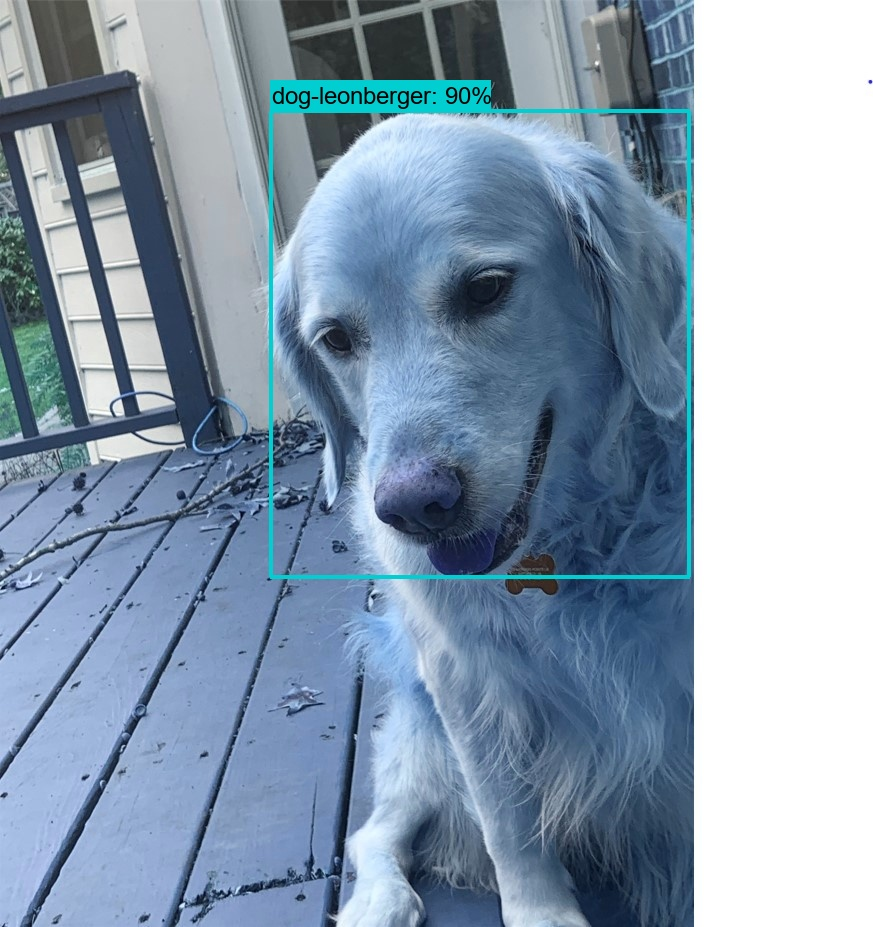bella: (268, 110, 688, 581)
